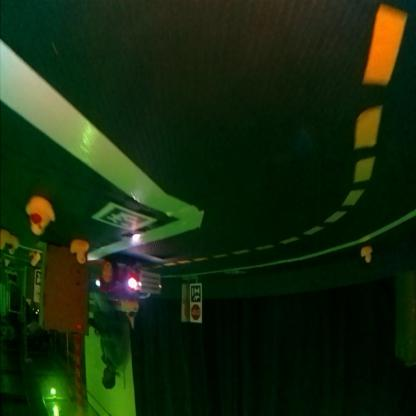Duckie: (29, 198, 54, 234), (72, 242, 90, 264), (1, 231, 11, 249), (10, 240, 20, 254), (362, 249, 371, 263), (31, 253, 40, 266)
Duckiebot: (98, 262, 162, 300)
QR code: (94, 203, 148, 231), (190, 284, 202, 304)
Stop sign: (192, 306, 202, 322)
